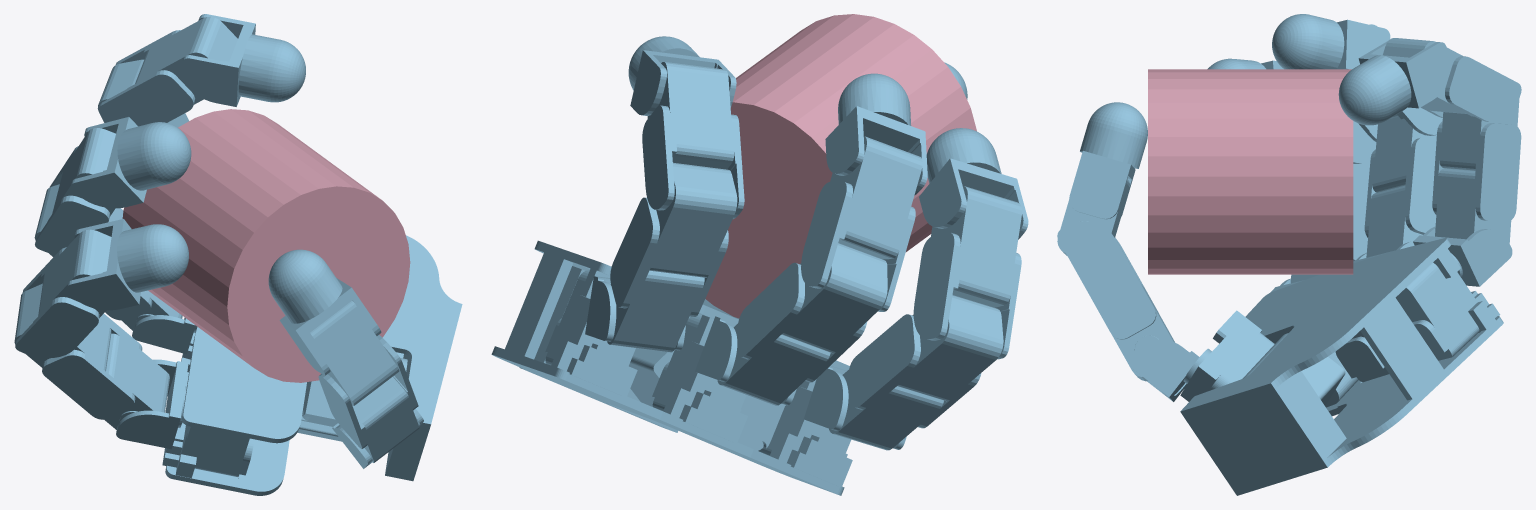
The picture shows the model from 3 angles, left to right: view 1: azimuth 30°, elevation 25°; view 2: azimuth 150°, elevation 25°; view 3: azimuth 270°, elevation 25°; orthographic projection. The views are drawn at different scales.
Parts seen in each view (by area): view 1: world; view 2: world; view 3: world.
Part boxes in pixels (x1,y1,x2,y2): world: (14,14,462,495); world: (491,14,1028,495); world: (1057,14,1521,495).
Size of the model in its own units: 0.1875 by 0.1742 by 0.1807.
